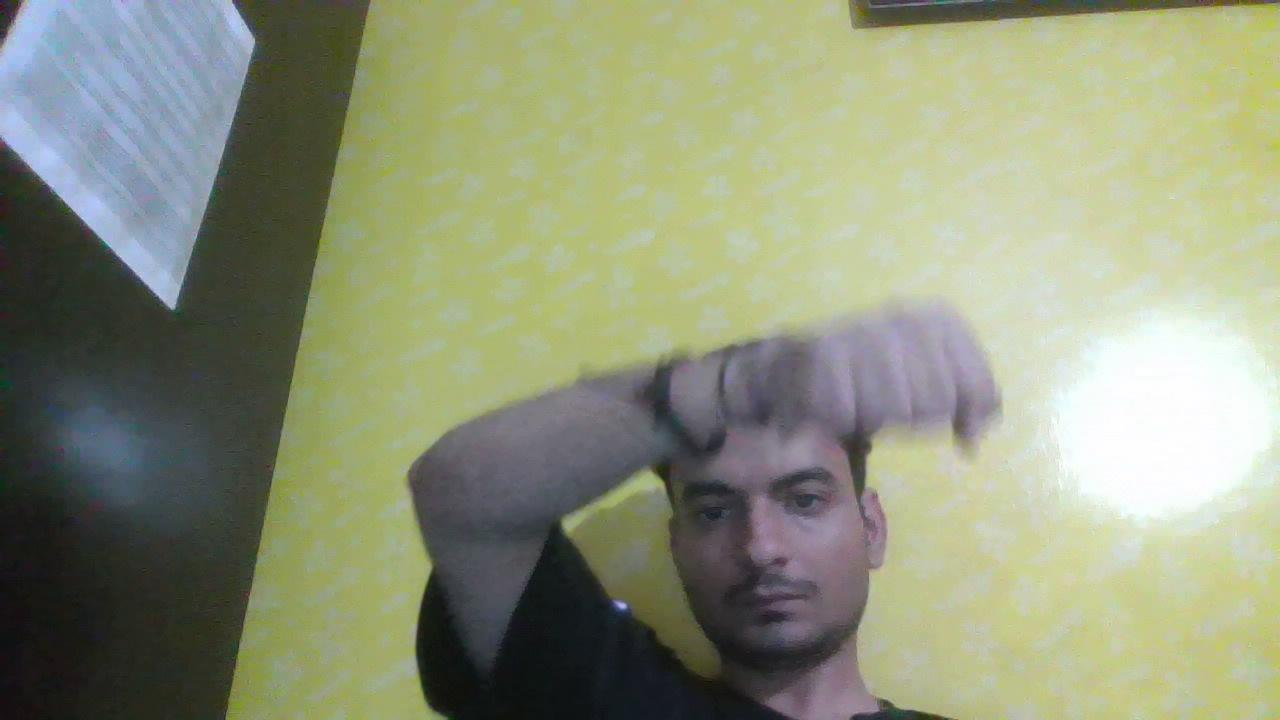Yes: (737, 280, 1049, 478)
